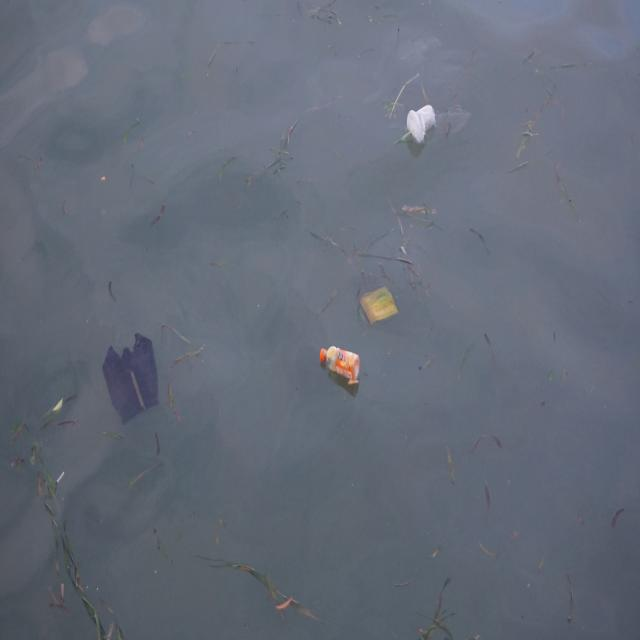Botol Plastik: (314, 341, 367, 393)
Bungkus Minuman: (404, 101, 441, 147)
Kantong Plastik: (101, 328, 162, 424)
